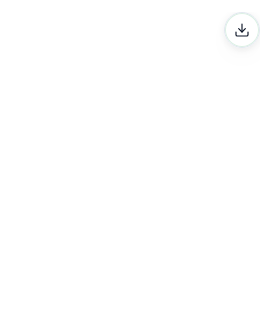
it: DownloadMenu › shows sanitized failed export copy
The width and height of the screenshot is (272, 324).
What coordinates should you click on to do the following:
click the button with test id "download-menu-toggle"
I would click on:
 (242, 30)
Its box is x1=224 y1=12 x2=260 y2=48.
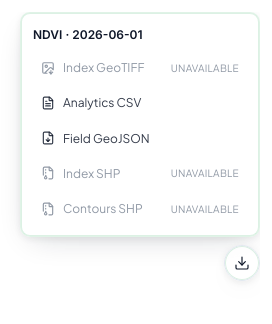
What coordinates should you click on to do the following:
click the button with test id "download-field-geojson"
I would click on:
 (140, 138)
Its box is x1=33 y1=123 x2=247 y2=154.
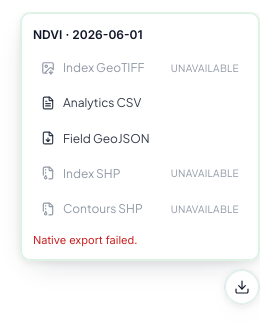
Expected: the text with test id "download-error" reads "Native export failed.", x1=33 y1=233 x2=137 y2=247
